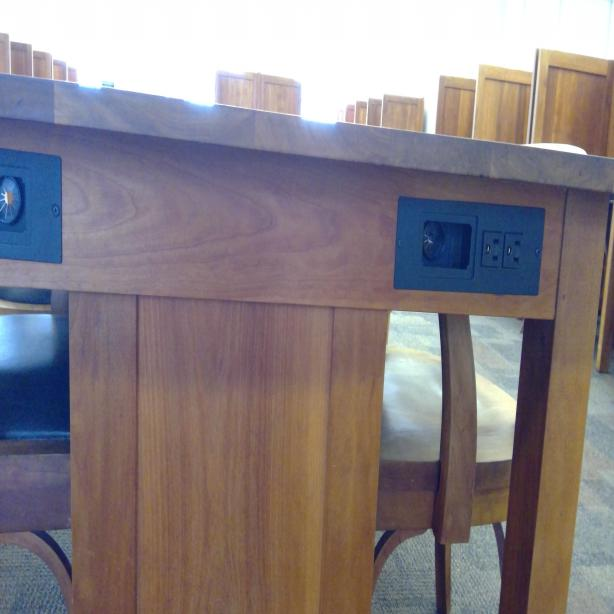typeb: (483, 230, 504, 267), (505, 230, 524, 269)
